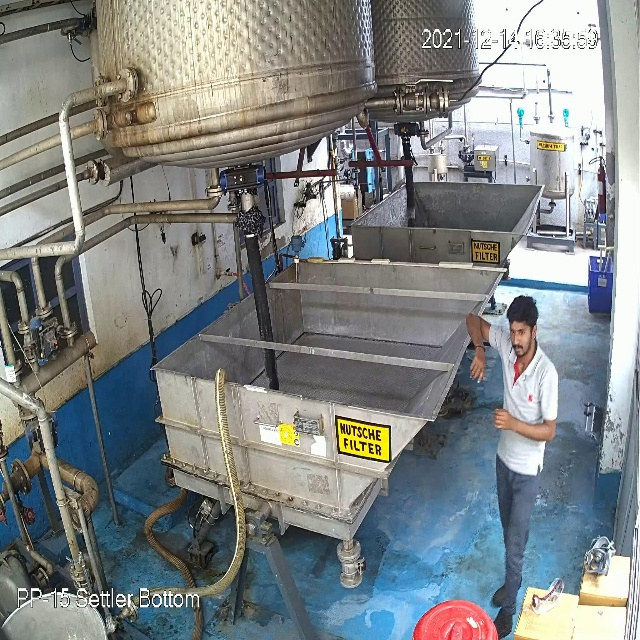Sin_gafas: (508, 324, 533, 340)
Sin_mascara: (509, 333, 532, 358)
